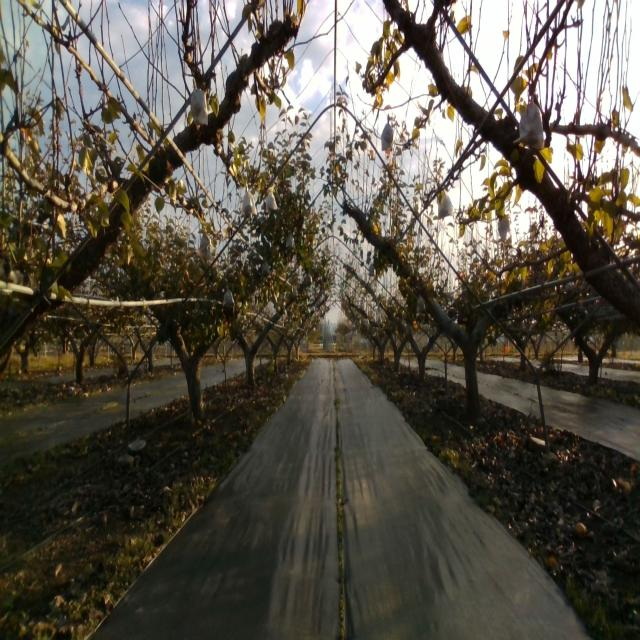pearbags: (512, 95, 544, 149), (191, 77, 208, 126), (242, 185, 258, 216), (497, 211, 512, 243), (437, 190, 453, 220), (381, 115, 394, 151), (200, 232, 212, 258), (222, 286, 235, 309), (266, 188, 278, 212)
